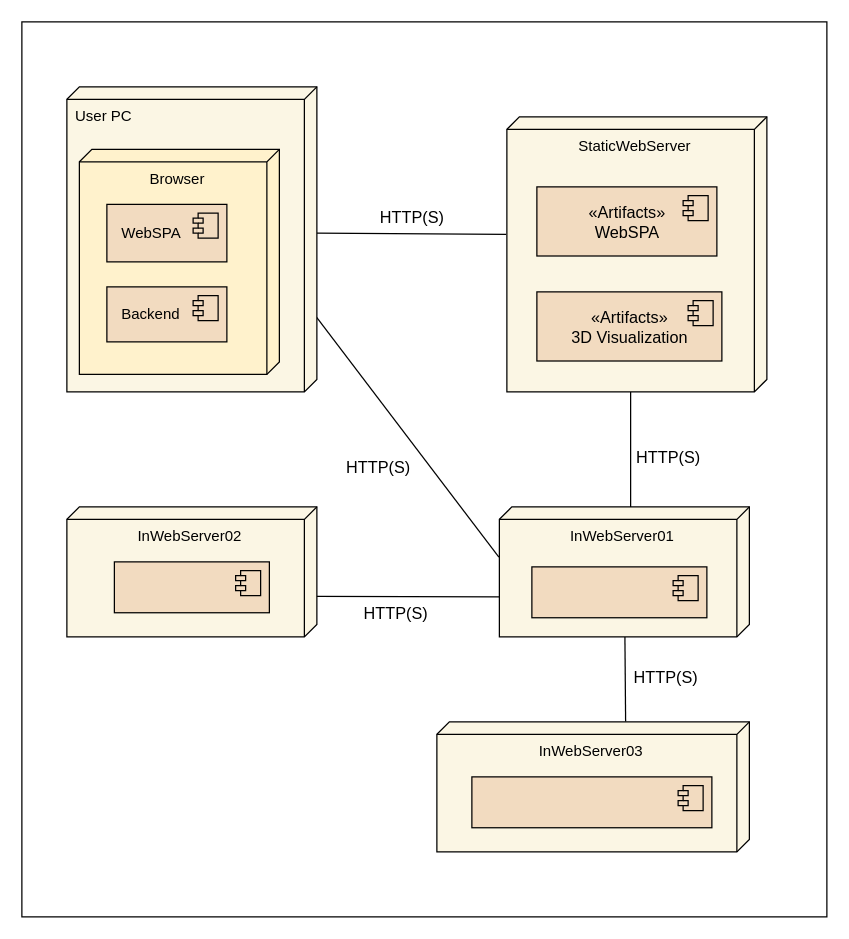
Some shapes in this 849 by 939 pixel diagram are drawn without their labels. Each missing label, with the centre of its shape:
ManagementCore: point (619, 592)
MedicalRecordManagement: point (591, 802)
Planning: point (191, 587)
